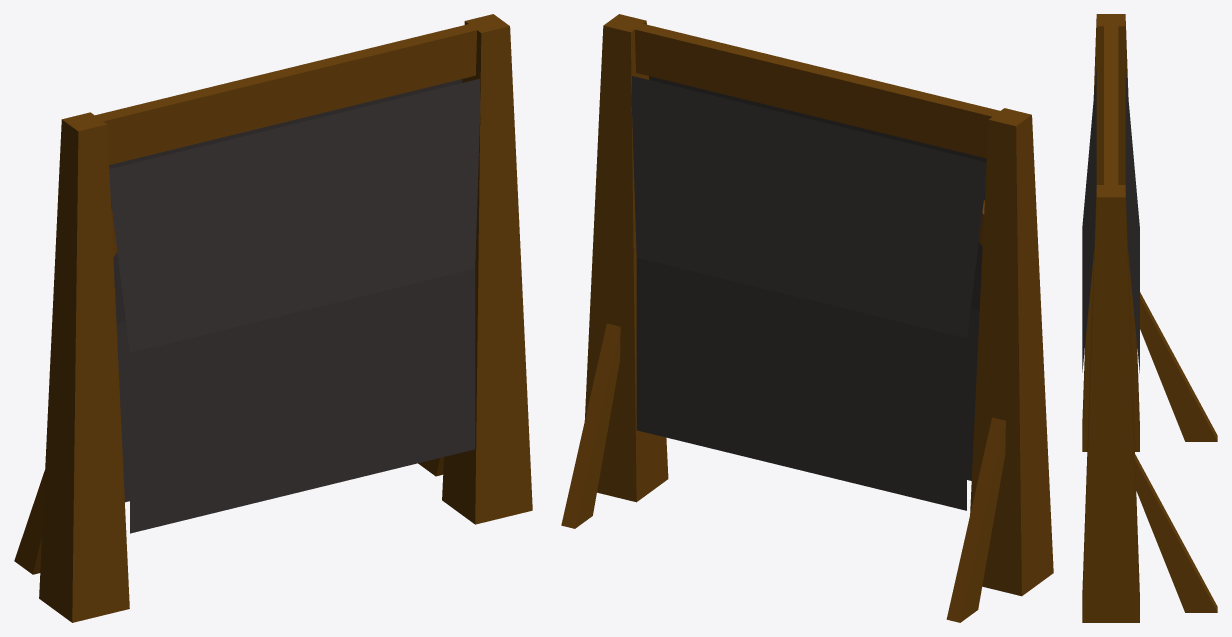
File: obj_obstacle_net_3_0.obj
The picture shows the model from 3 angles, left to right: view 1: azimuth 30°, elevation 25°; view 2: azimuth 150°, elevation 25°; view 3: azimuth 270°, elevation 25°; orthographic projection. The views are drawn at different scales.
Bounding box in the file's own units: 2 × 2 × 0.5859.
